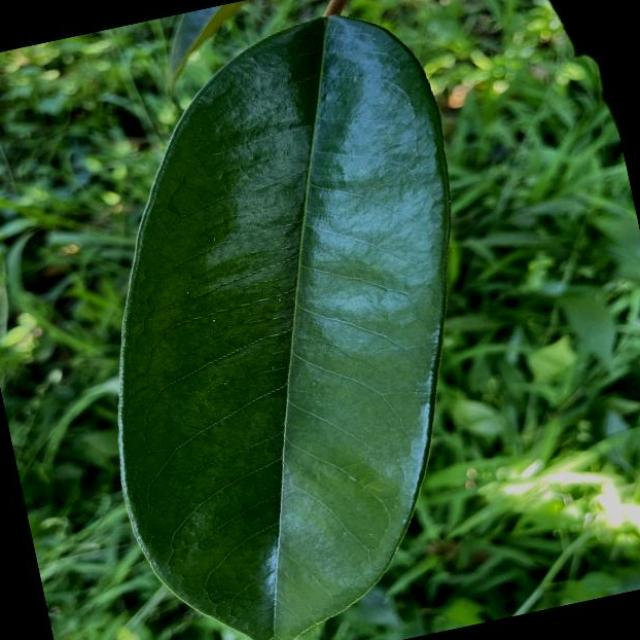No Disease: (28, 0, 554, 640)
